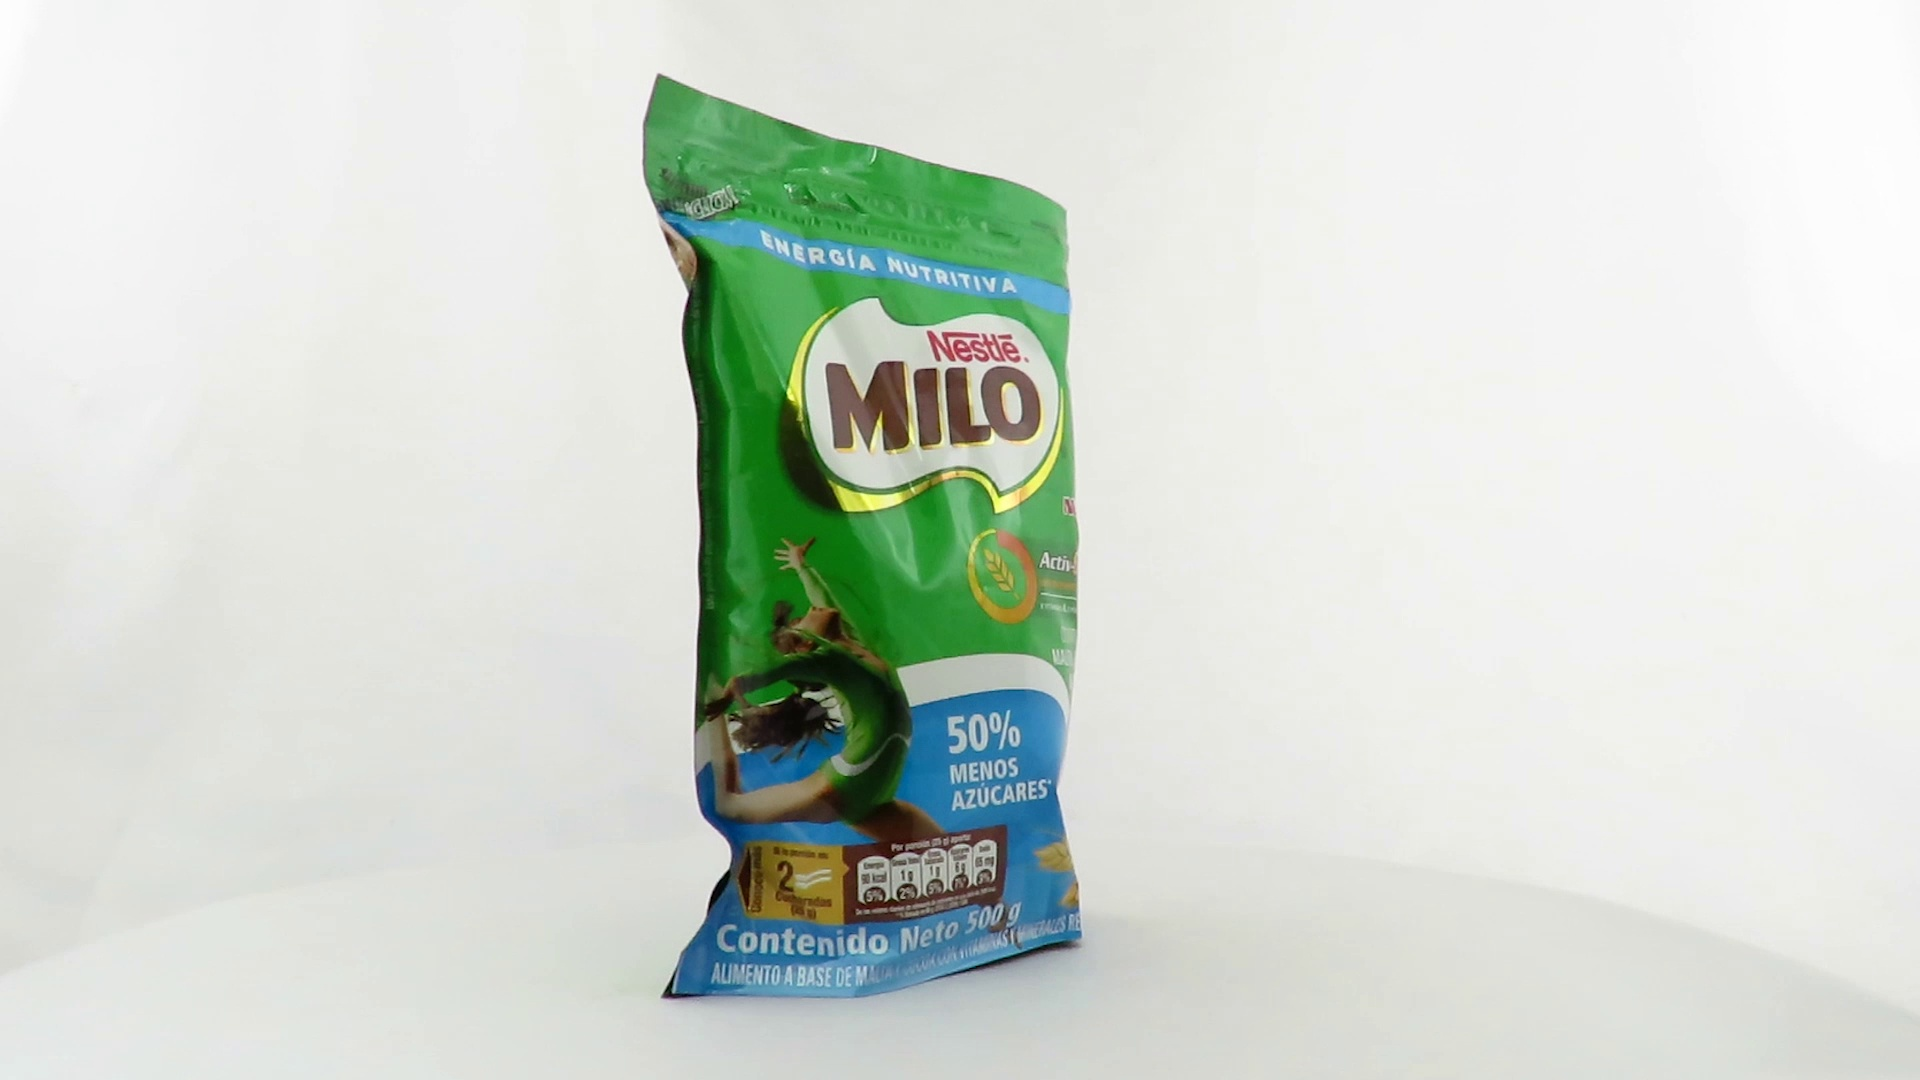COL0170205DYP50000: (637, 69, 1088, 1005)
